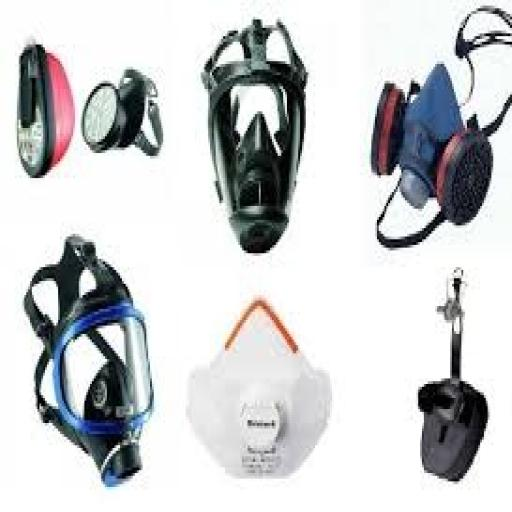mask: (24, 230, 172, 478), (197, 10, 318, 259)
